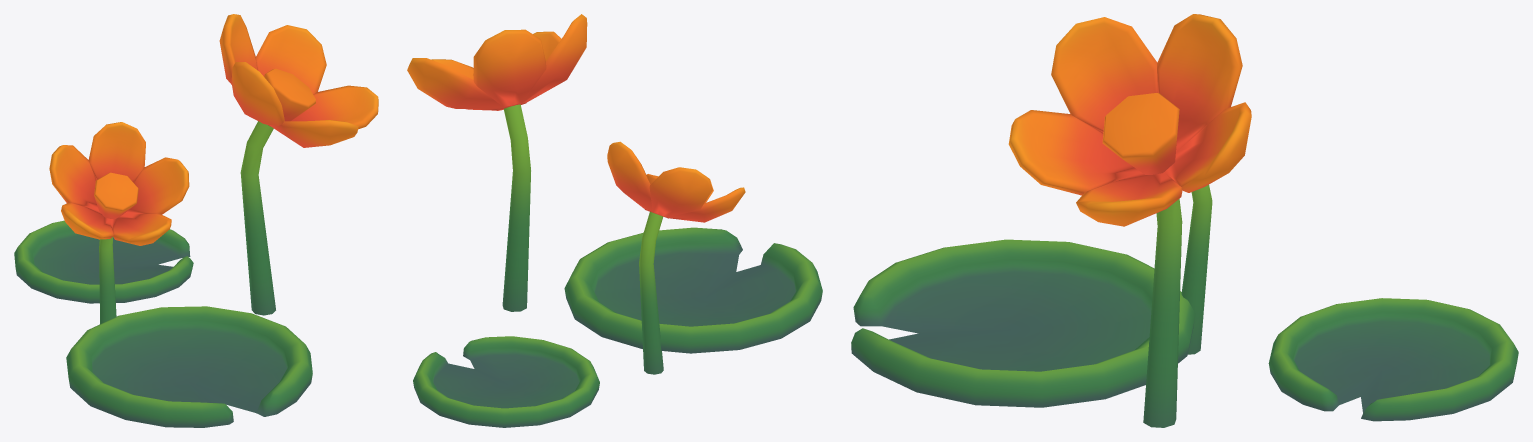
The model's file is candy-bloom-b.glb.
3 renders of one model, left to right at view 1: azimuth 30°, elevation 25°; view 2: azimuth 150°, elevation 25°; view 3: azimuth 270°, elevation 25°, orthographic. The views are drawn at different scales.
Visible parts, largest first — view 1: Plant.008; view 2: Plant.008; view 3: Plant.008.
Boxes of the visible parts, x1,y1,x2,y2 form: Plant.008: [14, 14, 378, 427]; Plant.008: [407, 14, 822, 427]; Plant.008: [851, 14, 1518, 427].
Bounding box in the file's own units: 433 × 381 × 547.
1 material, 1 textured.
